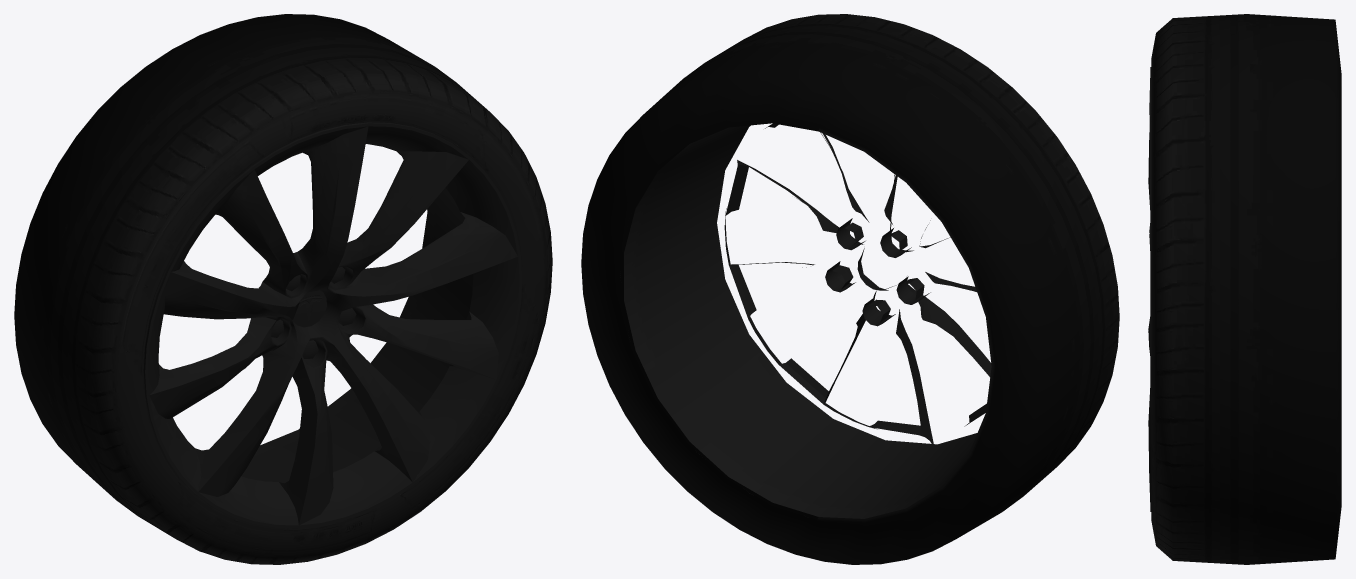
Rendered from Wheel_Turbine_Onyx_Black.glb.
3 views of the same model, side by side, from view 1: azimuth 30°, elevation 25°; view 2: azimuth 150°, elevation 25°; view 3: azimuth 270°, elevation 25° (orthographic). The views are drawn at different scales.
Visible parts, largest first — view 1: Wheel_Turbine; view 2: Wheel_Turbine; view 3: Wheel_Turbine.
Part boxes in pixels (<box>): Wheel_Turbine: <box>14,14,552,564</box>; Wheel_Turbine: <box>581,14,1119,564</box>; Wheel_Turbine: <box>1148,14,1341,564</box>.
Bounding box in the file's own units: 0.7408 × 0.7394 × 0.2597.
Materials: 2 (2 with a texture image).
